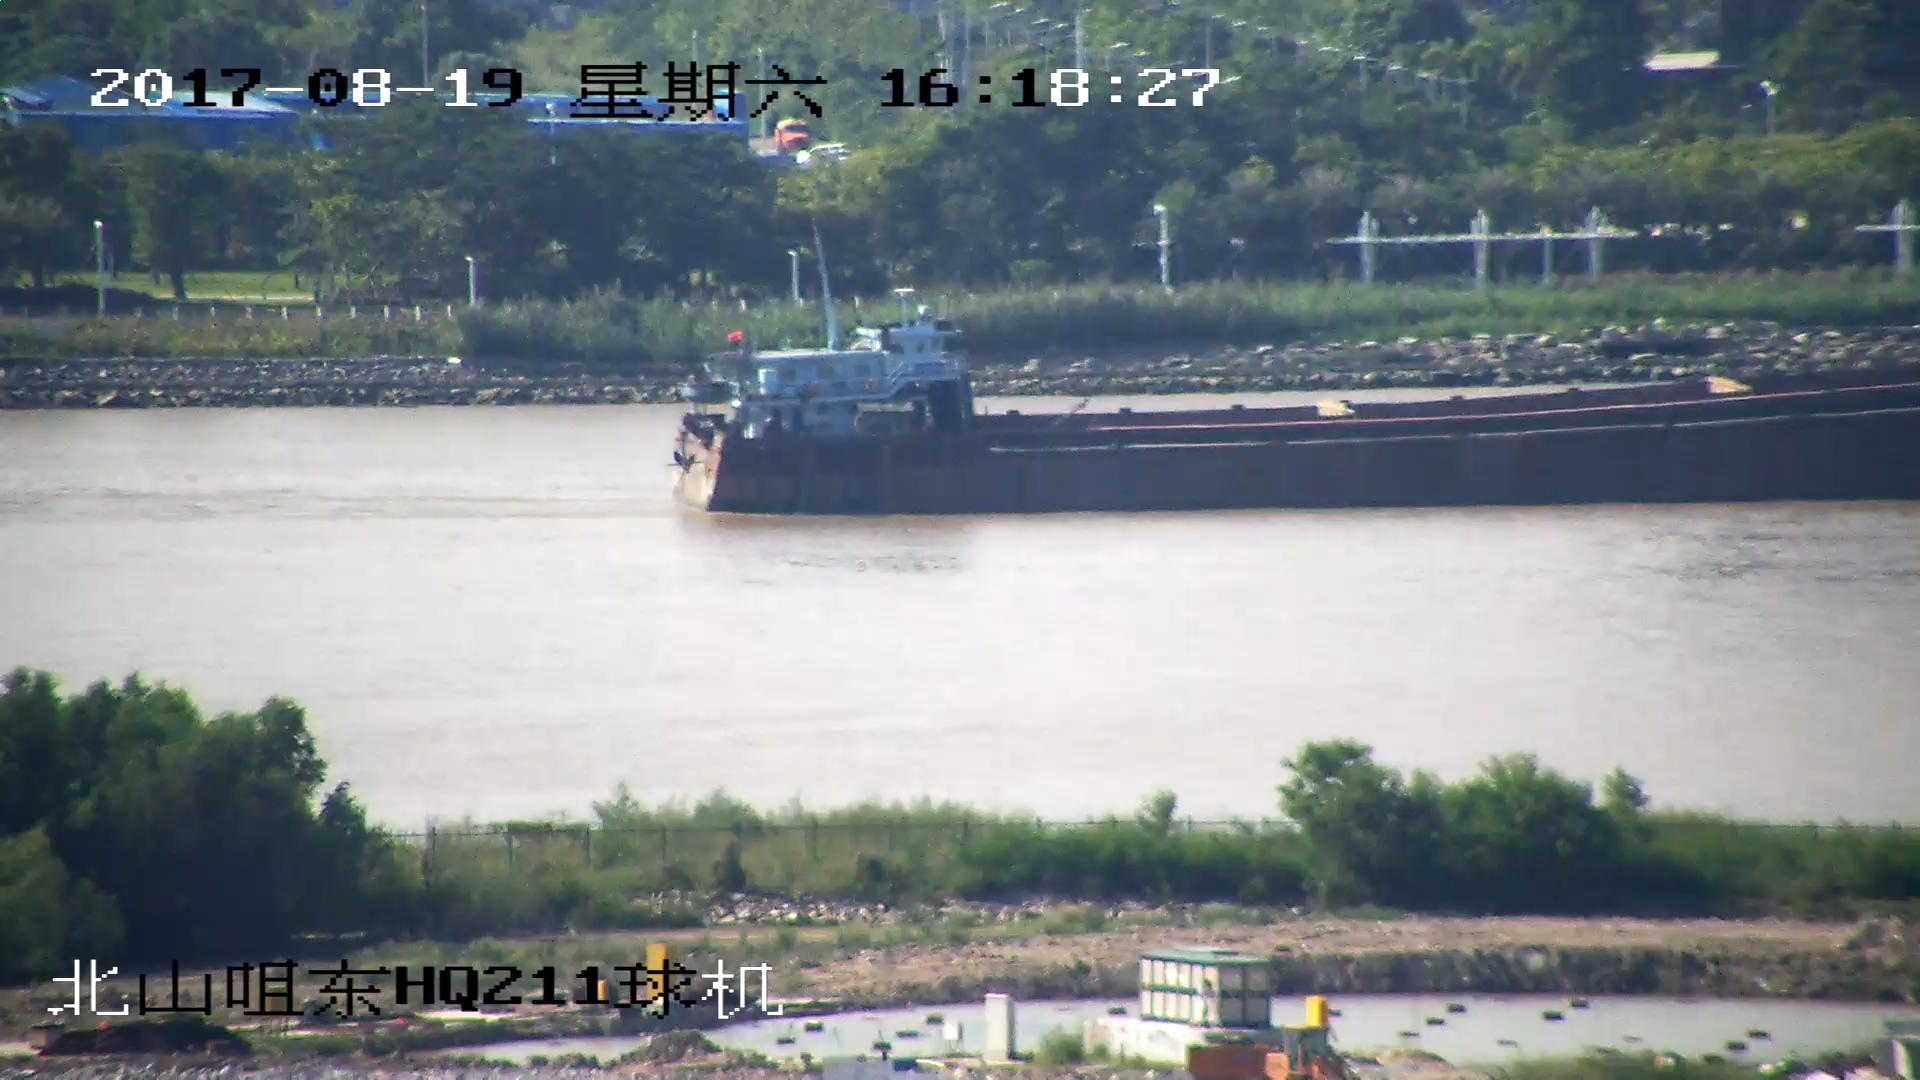bulk cargo carrier: (670, 305, 1920, 516)
